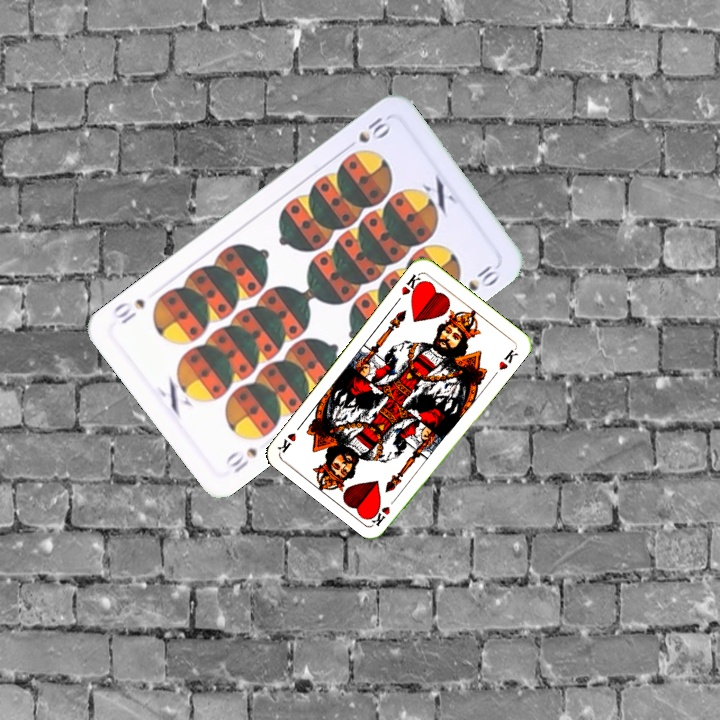HK: (368, 492, 400, 528), (397, 270, 426, 299)
S10: (340, 113, 394, 153), (221, 443, 260, 476)
